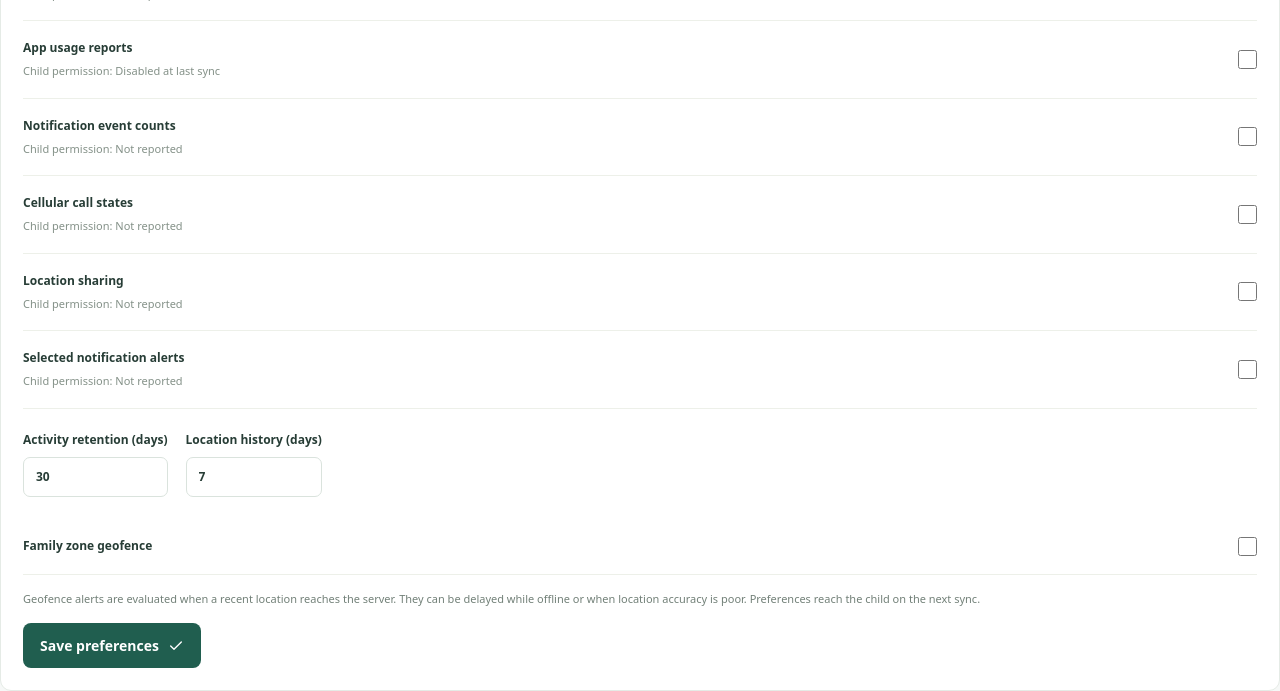
it: real interface workflows › shows privacy controls as reported and saves explicit settings
The image size is (1280, 691).
(page scrolled)
Click the button "Save preferences".
click(112, 646)  # box [23, 623, 201, 668]
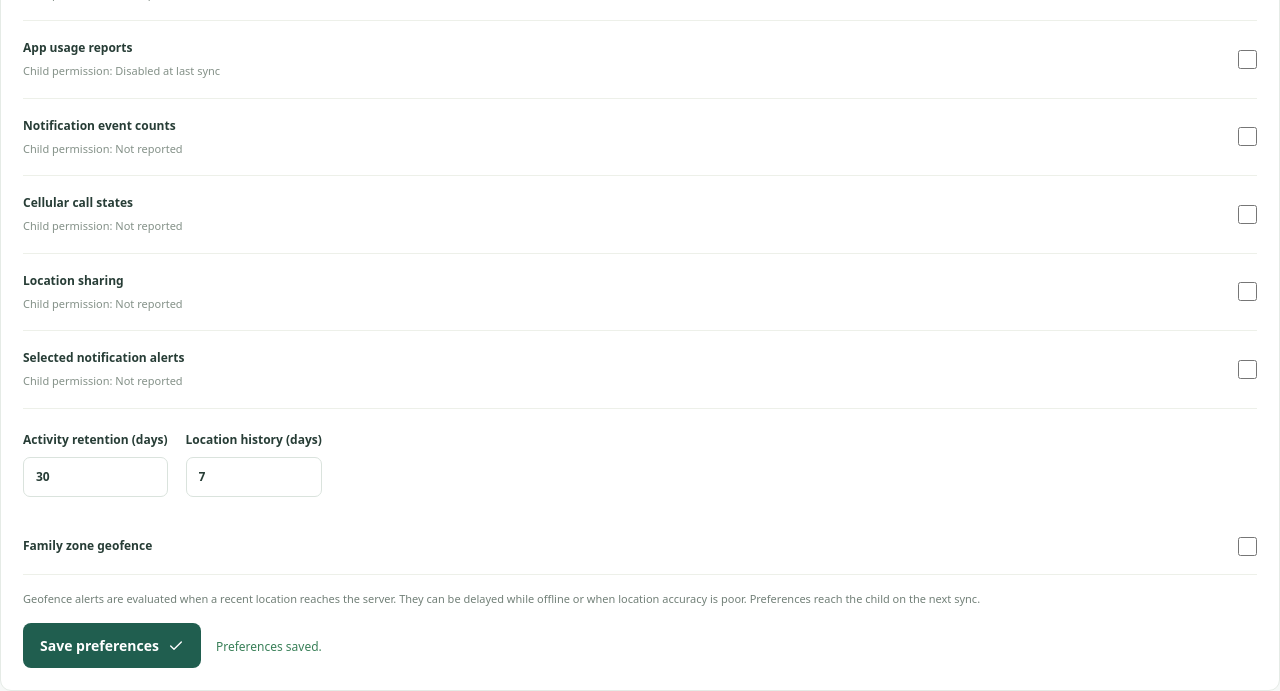
Result: the text "Preferences saved." is shown at [216, 638, 322, 655]
